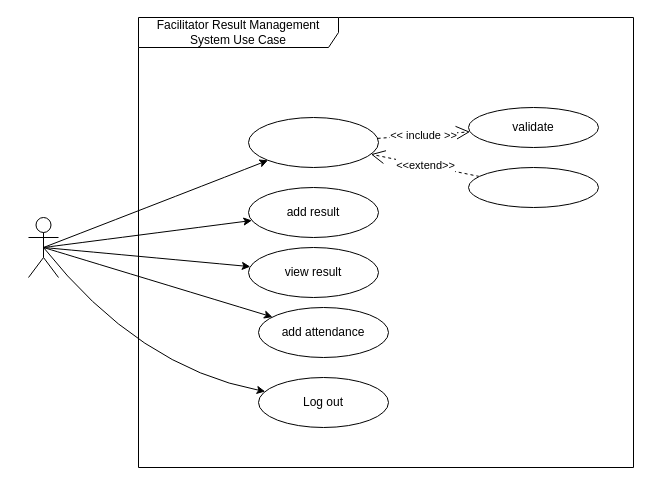
Some shapes in this 651 by 485 pixel diagram are drawn without their labels. Here are the shapes that lost their labels. From the top down, the centre of each, then its label:
(313,142): Log in
(533,187): Display Error
(43,247): Facilitator
